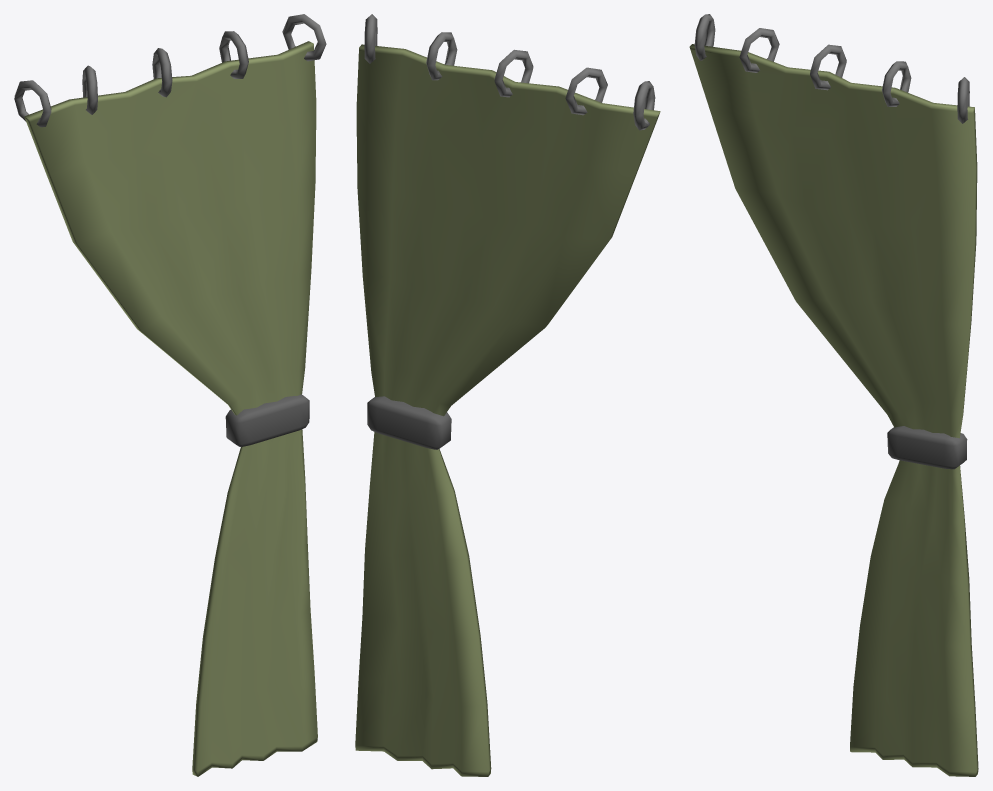
The model's file is curtain_032.fbx.
3 renders of one model, left to right at view 1: azimuth 30°, elevation 25°; view 2: azimuth 150°, elevation 25°; view 3: azimuth 330°, elevation 25°, orthographic. The views are drawn at different scales.
Parts seen in each view (by area): view 1: curtain_032; view 2: curtain_032; view 3: curtain_032.
Boxes of the visible parts, x1,y1,x2,y2 form: curtain_032: (14, 14, 326, 776); curtain_032: (355, 14, 660, 776); curtain_032: (689, 14, 978, 776).
Bounding box in the file's own units: 147 × 22.83 × 348.
